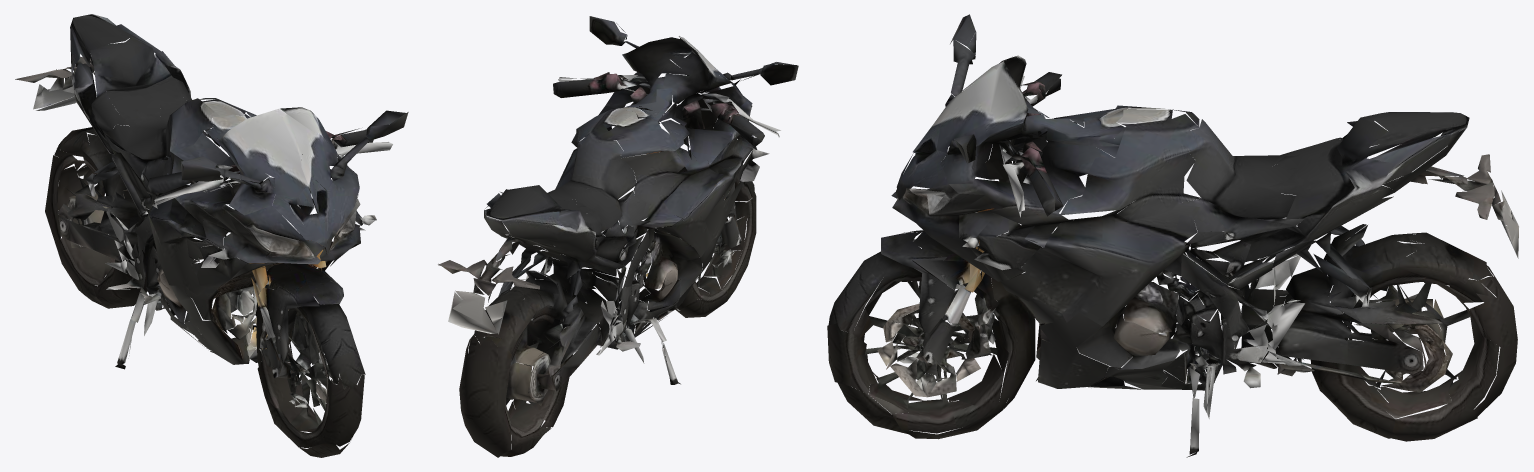
The model's file is motorcycle.glb.
3 views of the same model, side by side, from view 1: azimuth 30°, elevation 25°; view 2: azimuth 150°, elevation 25°; view 3: azimuth 270°, elevation 25° (orthographic). The views are drawn at different scales.
Visible parts, largest first — view 1: tripo_node_8b1f57d7-abd3-4738-8dd8-630619e6297b; view 2: tripo_node_8b1f57d7-abd3-4738-8dd8-630619e6297b; view 3: tripo_node_8b1f57d7-abd3-4738-8dd8-630619e6297b.
Part boxes in pixels (<box>): tripo_node_8b1f57d7-abd3-4738-8dd8-630619e6297b: <box>15,14,408,457</box>; tripo_node_8b1f57d7-abd3-4738-8dd8-630619e6297b: <box>438,16,798,457</box>; tripo_node_8b1f57d7-abd3-4738-8dd8-630619e6297b: <box>827,14,1518,457</box>.
Bounding box in the file's own units: 0.9367 × 1.21 × 2.
Materials: 1 (1 with a texture image).
